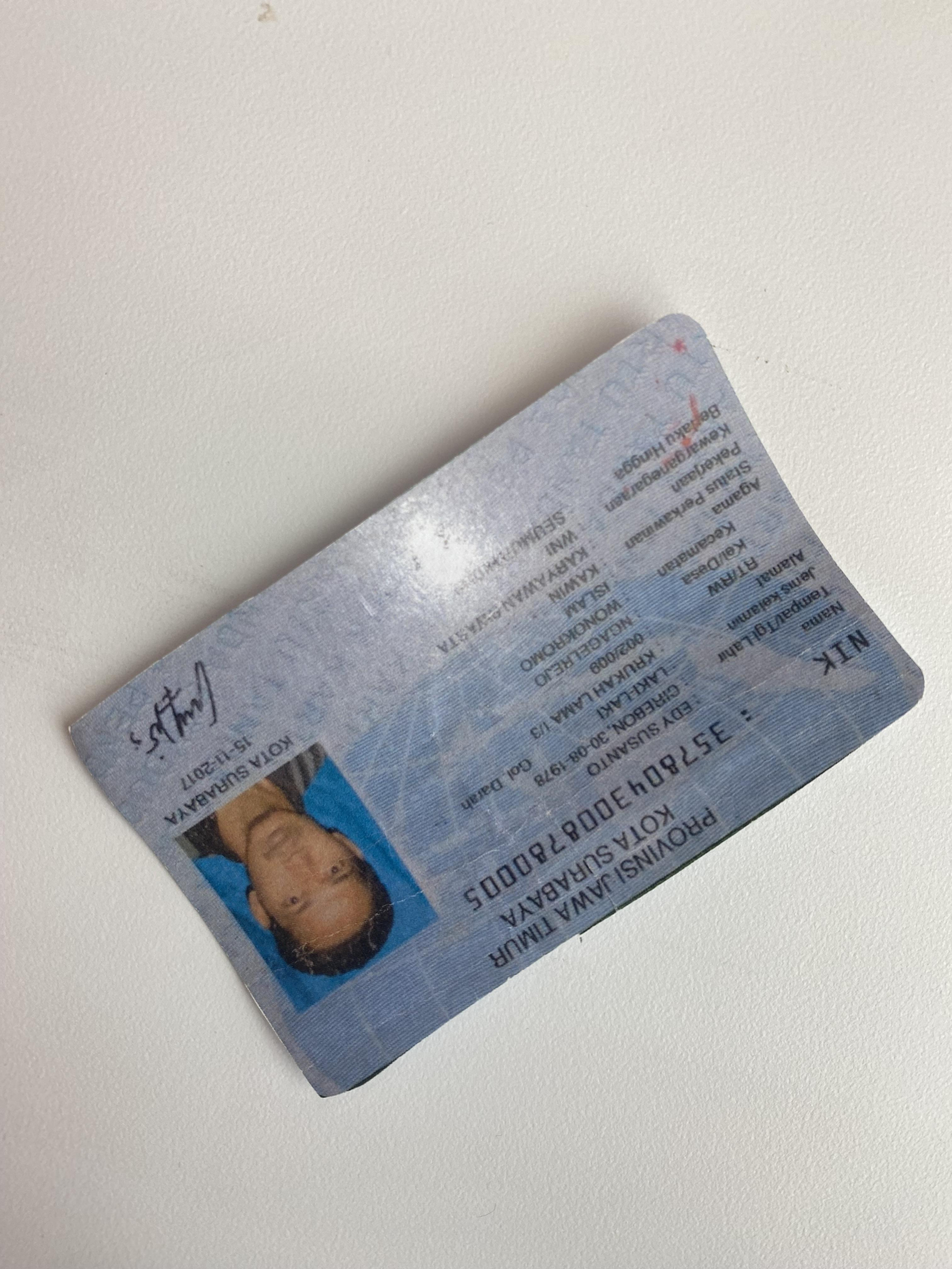ktp: (66, 303, 927, 1106)
